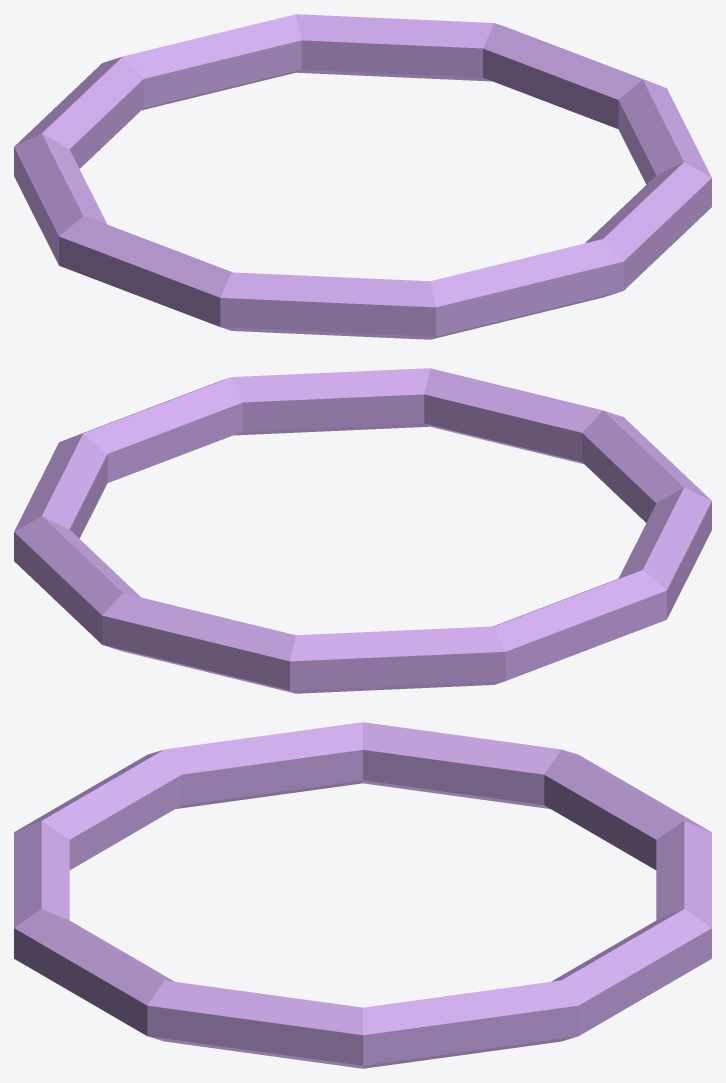
The model's file is SpawnInRing.gltf.
3 renders of one model, top to bottom at view 1: azimuth 30°, elevation 25°; view 2: azimuth 150°, elevation 25°; view 3: azimuth 270°, elevation 25°, orthographic. The views are drawn at different scales.
Visible parts, largest first — view 1: torus; view 2: torus; view 3: torus.
Part boxes in pixels (x1,y1,x2,y2): torus: (14, 14, 711, 339); torus: (14, 368, 711, 693); torus: (14, 722, 711, 1068).
Bounding box in the file's own units: 3.57 × 0.3286 × 3.4.
1 material, 1 textured.
